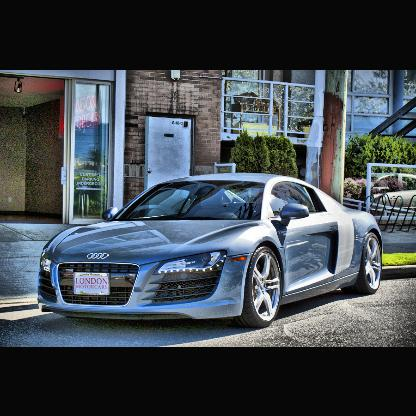Audi R8 Coupe 2012: (36, 172, 384, 326)
